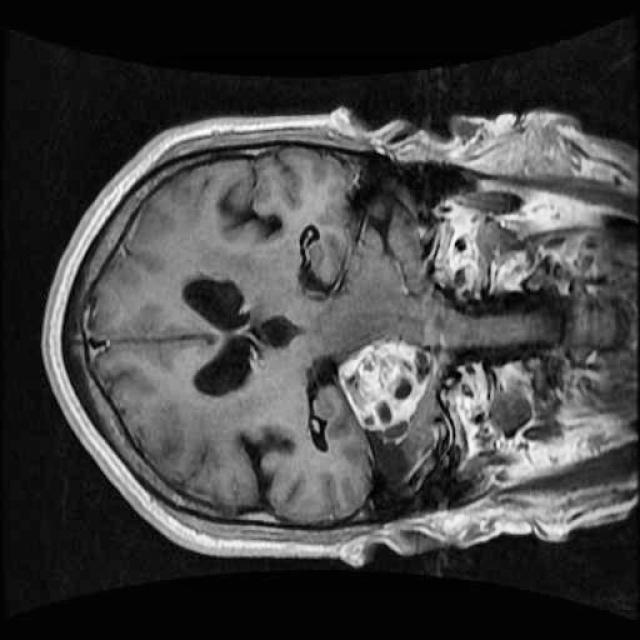Tumor: (321, 328, 451, 444)
